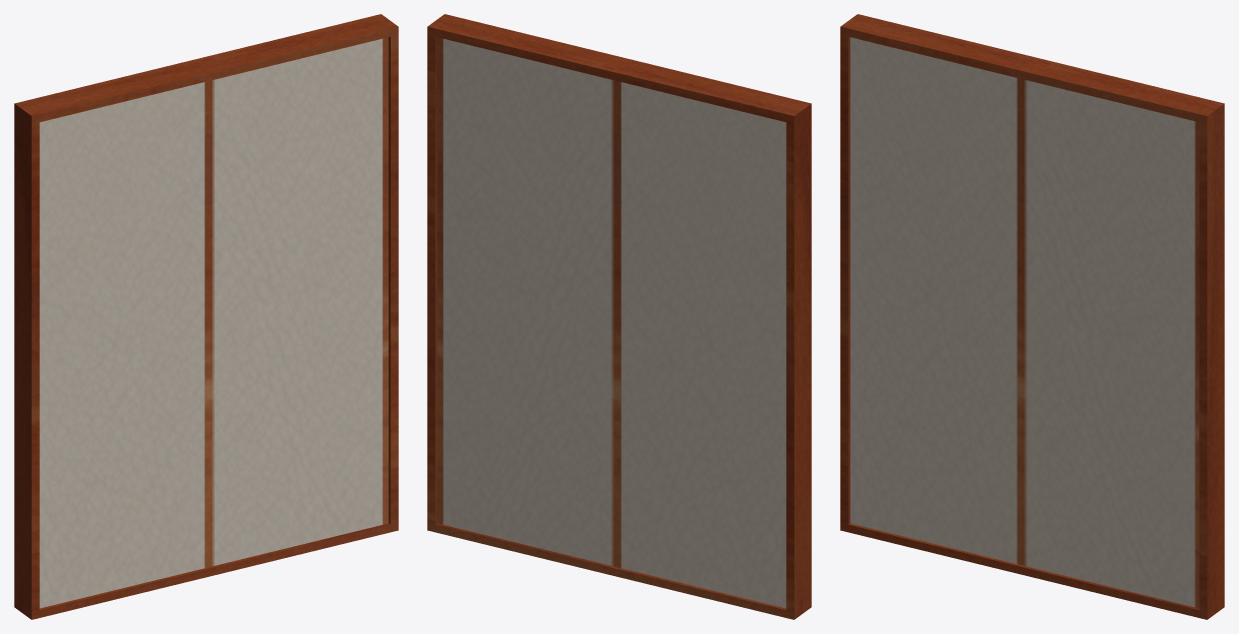
The model's file is NNJ0510004.fbx.
3 views of the same model, side by side, from view 1: azimuth 30°, elevation 25°; view 2: azimuth 150°, elevation 25°; view 3: azimuth 330°, elevation 25° (orthographic).
Visible parts, largest first — view 1: smNNJ0510004; view 2: smNNJ0510004; view 3: smNNJ0510004.
Boxes of the visible parts, box(x1,y1,x2,y2) form: smNNJ0510004: box(14, 14, 398, 619); smNNJ0510004: box(427, 14, 811, 619); smNNJ0510004: box(840, 14, 1224, 619).
Bounding box in the file's own units: 222 × 291 × 18.09.
